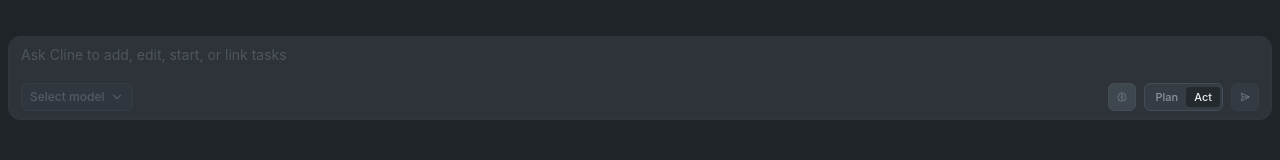
it: ClineAgentChatPanel › restores a hidden reasoning preference and re-enables it from the toggle
Expected: the text "Reasoning" is not shown
Click the button named "Show reasoning": (1122, 97) [1108,83,1136,111]
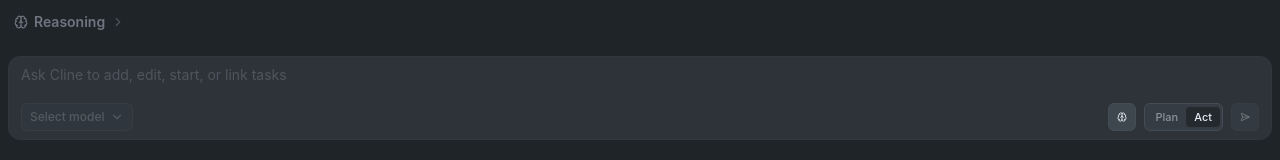
Expected: the text "Reasoning" is shown, [34,12,105,32]
